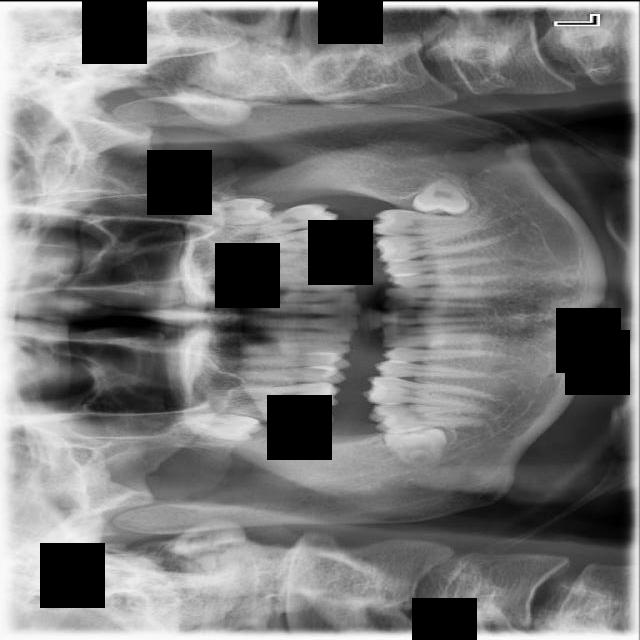3M ESPE Implant: (165, 407, 263, 442)
73: (558, 23, 566, 28)
BioHorizons Implant: (203, 199, 340, 242)
BioLife Implant: (188, 194, 278, 228)
Biomet 3i Implant: (411, 169, 472, 218)
Blue Sky Bio Implant: (367, 206, 493, 237)
Caries: (217, 400, 333, 434)
Implant: (367, 401, 492, 435)
Keystone Dental Implant: (382, 421, 451, 473)
